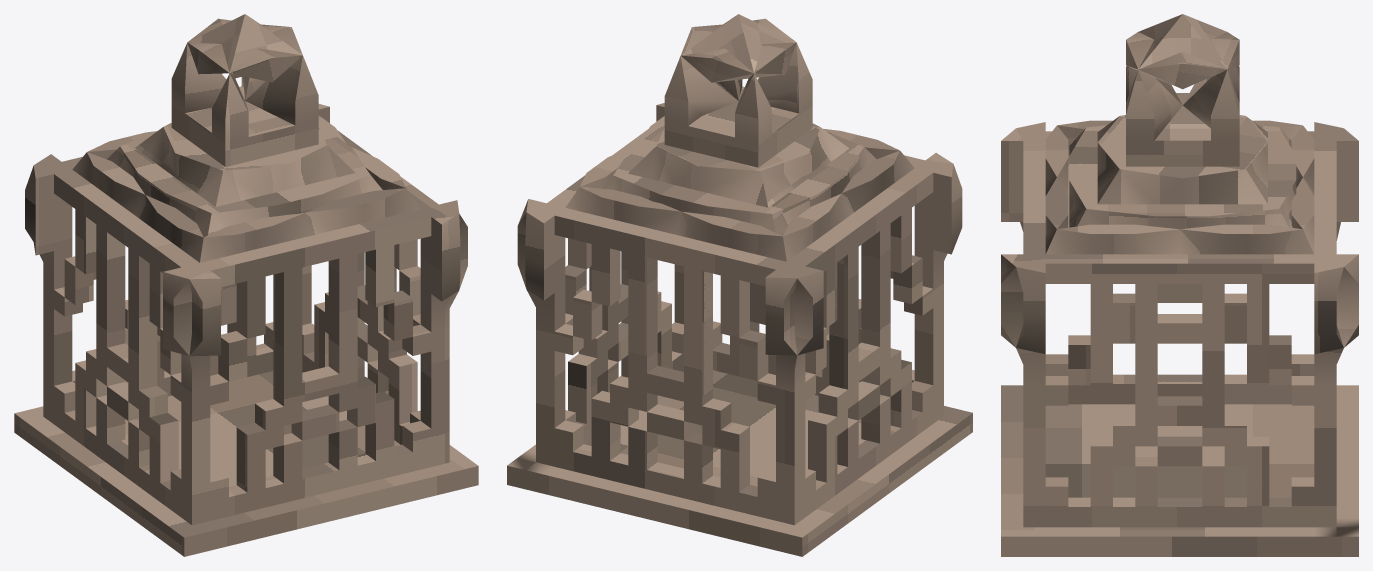
Rendered from bcage_closed_corr.obj.
3 views of the same model, side by side, from view 1: azimuth 30°, elevation 25°; view 2: azimuth 150°, elevation 25°; view 3: azimuth 270°, elevation 25° (orthographic). The views are drawn at different scales.
Parts seen in each view (by area): view 1: bcage.001, bcagelid; view 2: bcage.001, bcagelid; view 3: bcage.001, bcagelid.
Part boxes in pixels (bbox=[...]): bcage.001: bbox=[14, 104, 478, 556]; bcagelid: bbox=[107, 14, 382, 237]; bcage.001: bbox=[507, 103, 972, 556]; bcagelid: bbox=[602, 14, 876, 236]; bcage.001: bbox=[1001, 120, 1358, 556]; bcagelid: bbox=[1069, 14, 1296, 229].
Bounding box in the file's own units: 0.6739 × 0.9712 × 0.6739.
